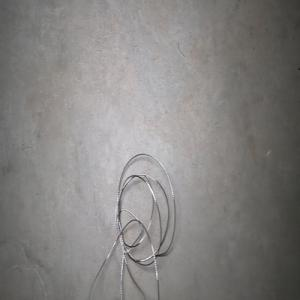Wire: (88, 153, 175, 300)
